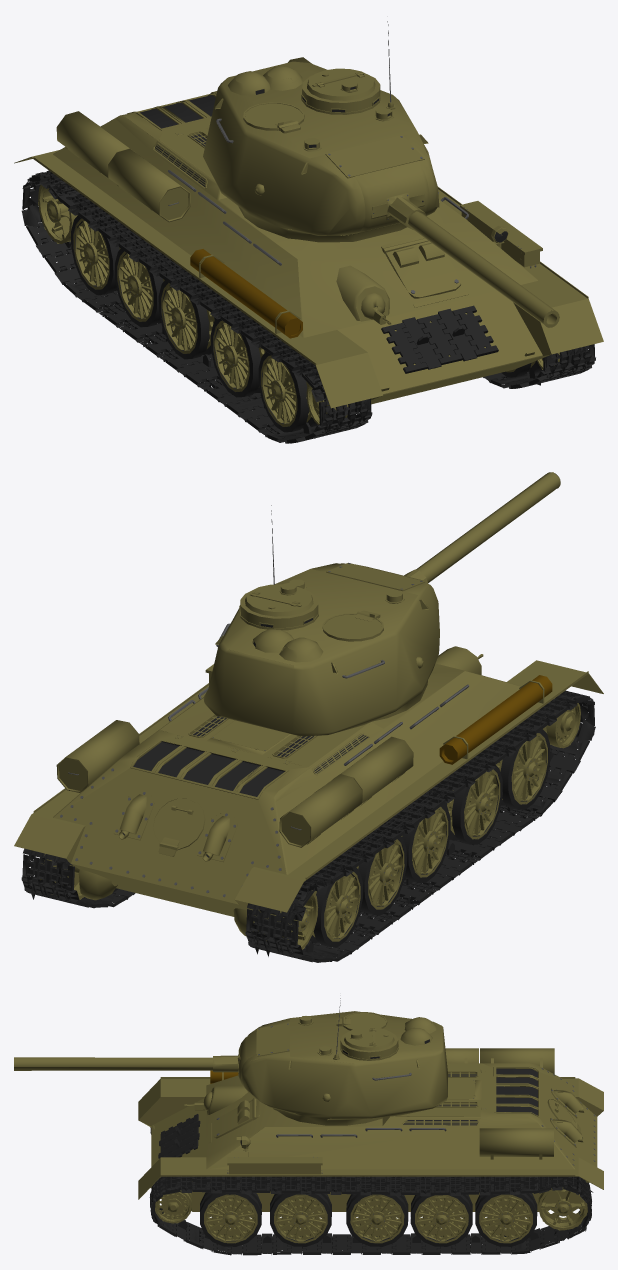
Rendered from tank_lod0.glb.
The picture shows the model from 3 angles, top to bottom: view 1: azimuth 30°, elevation 25°; view 2: azimuth 150°, elevation 25°; view 3: azimuth 270°, elevation 25°; orthographic projection. The views are drawn at different scales.
Visible parts, largest first — view 1: L.wheel.006_T-34 Body_0.001, L.Truck_T-34 Truck_0.002, T34 Head_T-34 nails_0.001, L.Truck.002_T-34 nails_0.001; view 2: L.wheel.006_T-34 Body_0.001, L.Truck_T-34 Truck_0.002, T34 Head_T-34 nails_0.001, L.Truck.002_T-34 nails_0.001; view 3: L.wheel.006_T-34 Body_0.001, L.Truck_T-34 Truck_0.002, L.Truck.002_T-34 nails_0.001.
Boxes of the visible parts, x1,y1,x2,y2 form: L.wheel.006_T-34 Body_0.001: (14, 57, 603, 426); L.Truck_T-34 Truck_0.002: (21, 86, 595, 443); T34 Head_T-34 nails_0.001: (190, 249, 302, 338); L.Truck.002_T-34 nails_0.001: (47, 21, 536, 401); L.wheel.006_T-34 Body_0.001: (14, 472, 603, 949); L.Truck_T-34 Truck_0.002: (21, 618, 595, 962); T34 Head_T-34 nails_0.001: (439, 675, 552, 764); L.Truck.002_T-34 nails_0.001: (60, 505, 537, 930); L.wheel.006_T-34 Body_0.001: (14, 1011, 603, 1243); L.Truck_T-34 Truck_0.002: (149, 1039, 593, 1255); L.Truck.002_T-34 nails_0.001: (216, 998, 595, 1226).
Size of the model in its own units: 71.43 by 78.74 by 178.
